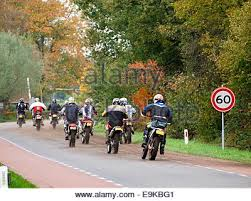Speed_limit_60km: (210, 86, 236, 112)
